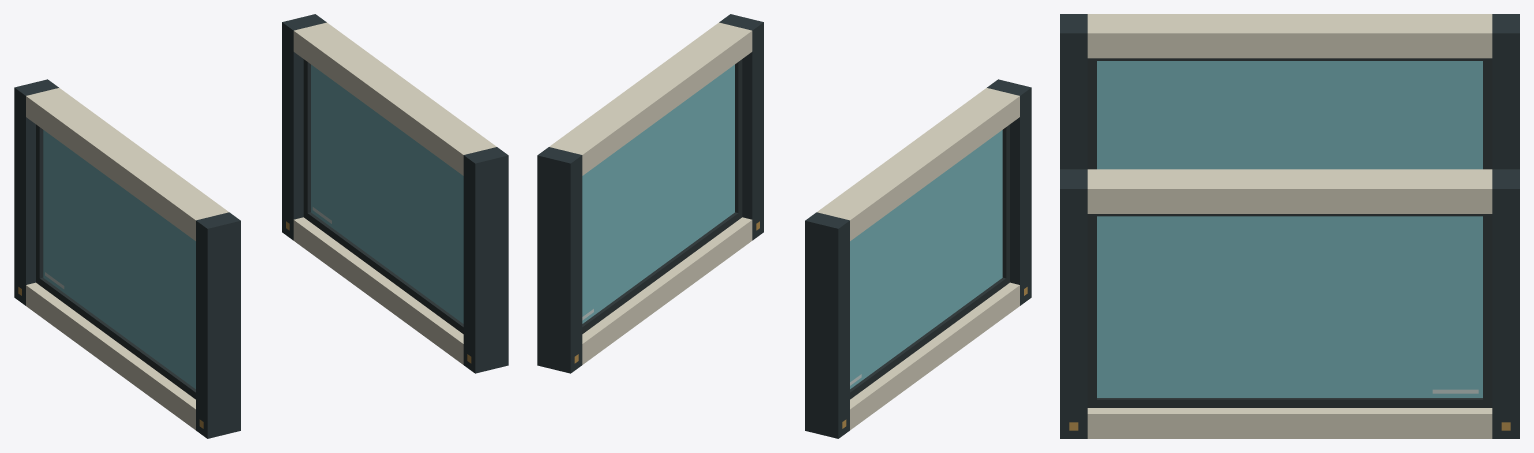
3 views of the same model, side by side, from view 1: azimuth 30°, elevation 25°; view 2: azimuth 150°, elevation 25°; view 3: azimuth 270°, elevation 25° (orthographic). The views are drawn at different scales.
Visible parts, largest first — view 1: 城市场景飞机双侧玻璃舱片; view 2: 城市场景飞机双侧玻璃舱片; view 3: 城市场景飞机双侧玻璃舱片.
Part boxes in pixels (left/top/right/bottom): 城市场景飞机双侧玻璃舱片: left=14, top=14, right=508, bottom=438; 城市场景飞机双侧玻璃舱片: left=537, top=14, right=1031, bottom=438; 城市场景飞机双侧玻璃舱片: left=1060, top=14, right=1519, bottom=438.
Bounding box in the file's own units: 1.8 × 1.2 × 2.
6 materials, 6 textured.
